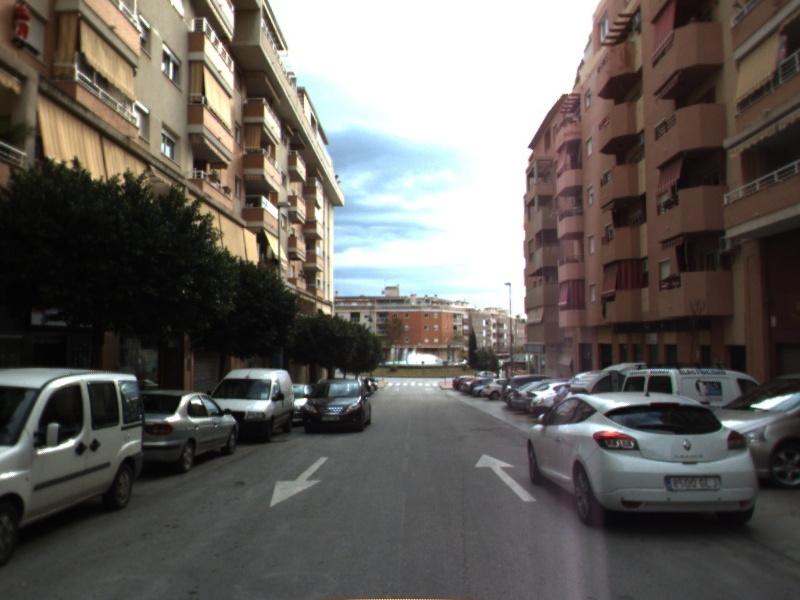STRAIGHT: (473, 452, 539, 504)
